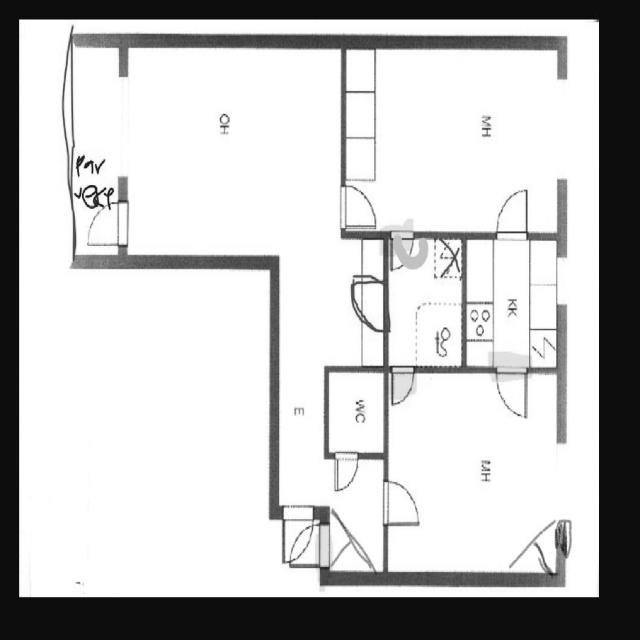door: (334, 175, 382, 236), (380, 474, 426, 532), (280, 506, 320, 566), (494, 360, 532, 422), (350, 275, 389, 335), (81, 200, 128, 249), (492, 183, 531, 241), (330, 448, 363, 496), (388, 362, 416, 406)
window: (552, 62, 572, 197), (113, 61, 133, 189), (555, 246, 565, 315)
zone: (124, 42, 344, 258), (344, 45, 563, 236), (385, 368, 564, 578), (464, 237, 556, 371), (387, 228, 465, 371), (323, 458, 386, 574), (324, 369, 386, 453)
